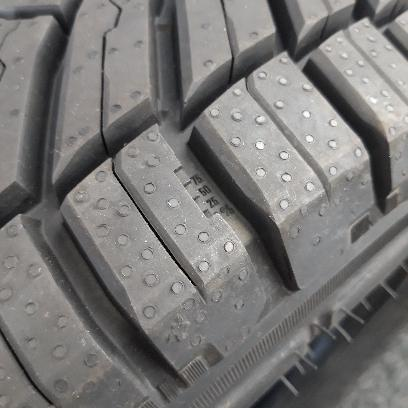temoin:100: (171, 152, 219, 222)
